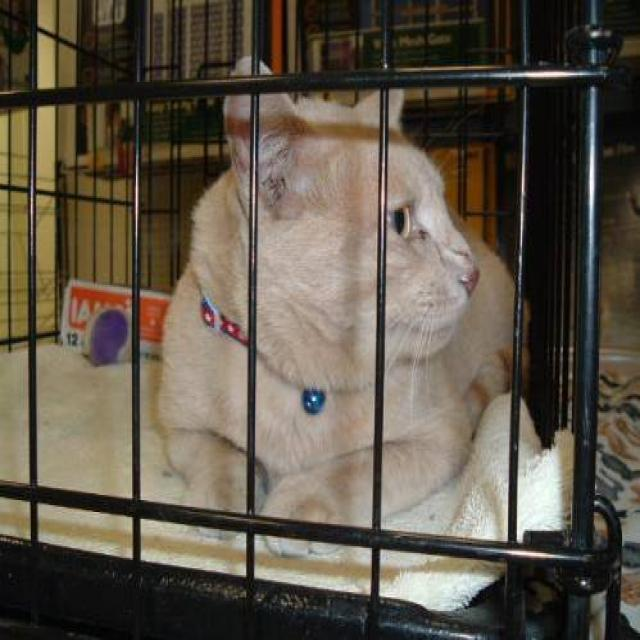cat: (153, 53, 577, 611)
